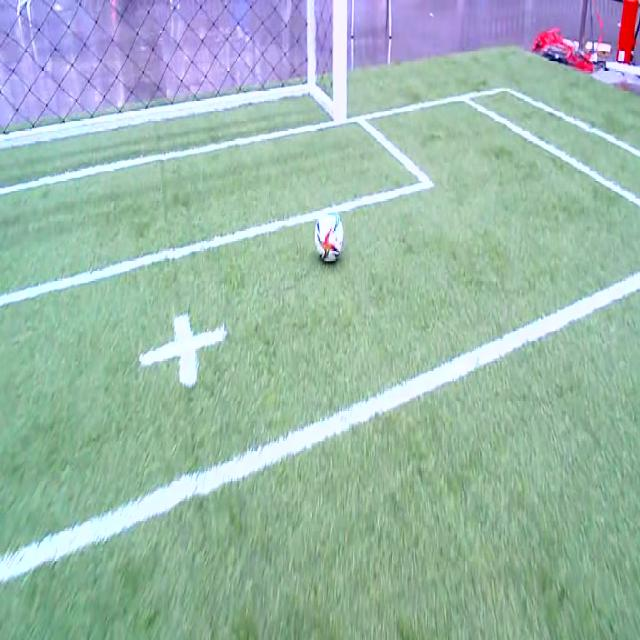ball: (316, 213, 344, 262)
